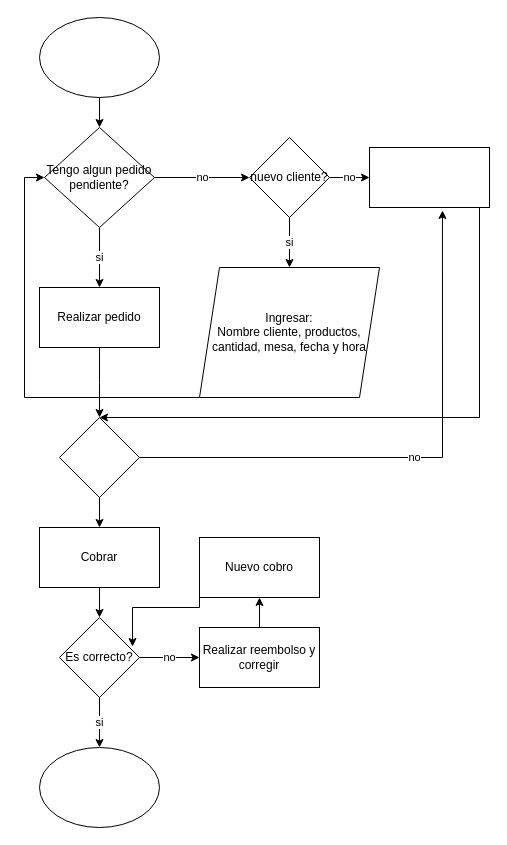
Image size: 507x845. Some labels were removed from this diagram. Each missing label, with the centre of its shape:
"Agregar al pedido correspondiente" goes at pixel 429 177.
"fin" goes at pixel 99 787.
"Inicio" goes at pixel 99 57.
"Terminó?" goes at pixel 99 457.
